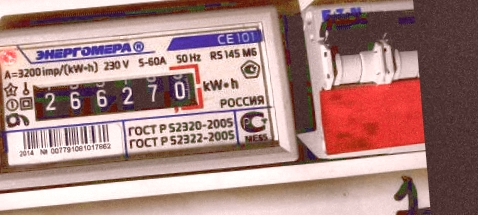0: (171, 79, 186, 100)
2: (41, 90, 58, 112), (119, 84, 134, 105)
6: (67, 88, 82, 110), (94, 87, 109, 108)
7: (145, 82, 158, 102)
screen: (22, 60, 209, 128)
